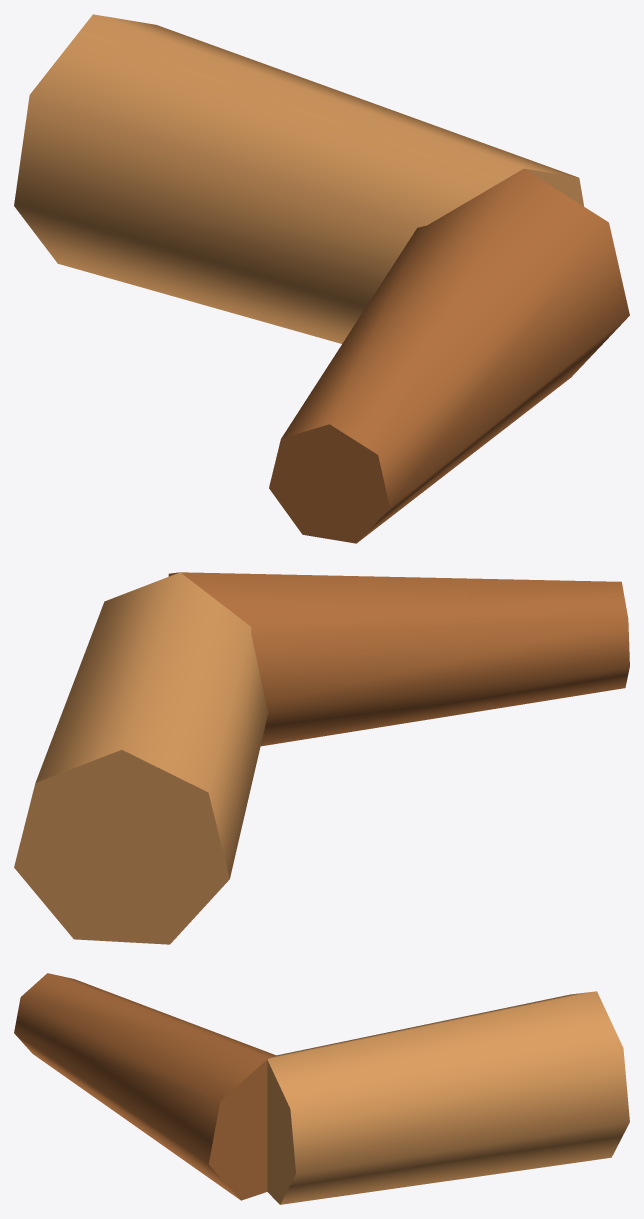
File: Cat_Tail.fbx
The picture shows the model from 3 angles, top to bottom: view 1: azimuth 30°, elevation 25°; view 2: azimuth 150°, elevation 25°; view 3: azimuth 270°, elevation 25°; orthographic projection. The views are drawn at different scales.
Visible parts, largest first — view 1: Cat_Tail_EXP; view 2: Cat_Tail_EXP; view 3: Cat_Tail_EXP.
Part boxes in pixels (x1,y1,x2,y2): Cat_Tail_EXP: [14, 14, 629, 543]; Cat_Tail_EXP: [14, 572, 629, 944]; Cat_Tail_EXP: [14, 973, 629, 1204].
Bounding box in the file's own units: 0.1349 × 0.0608 × 0.2242.
